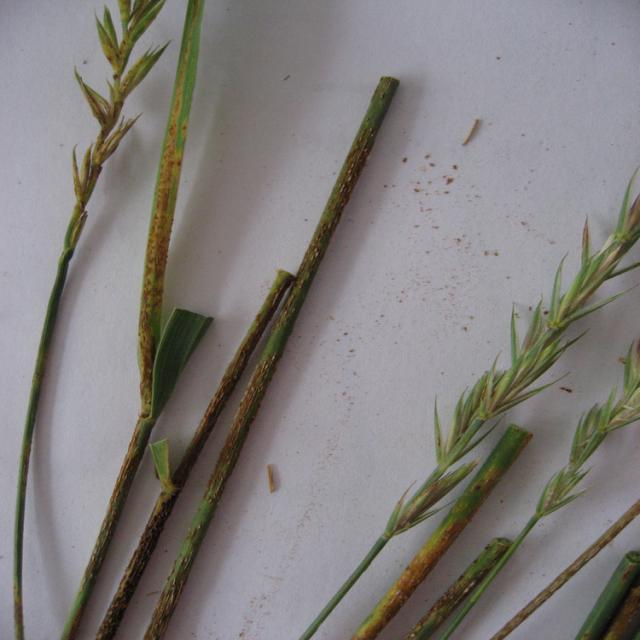Stem Rust: (195, 328, 274, 550), (363, 476, 466, 640), (142, 113, 176, 416)
